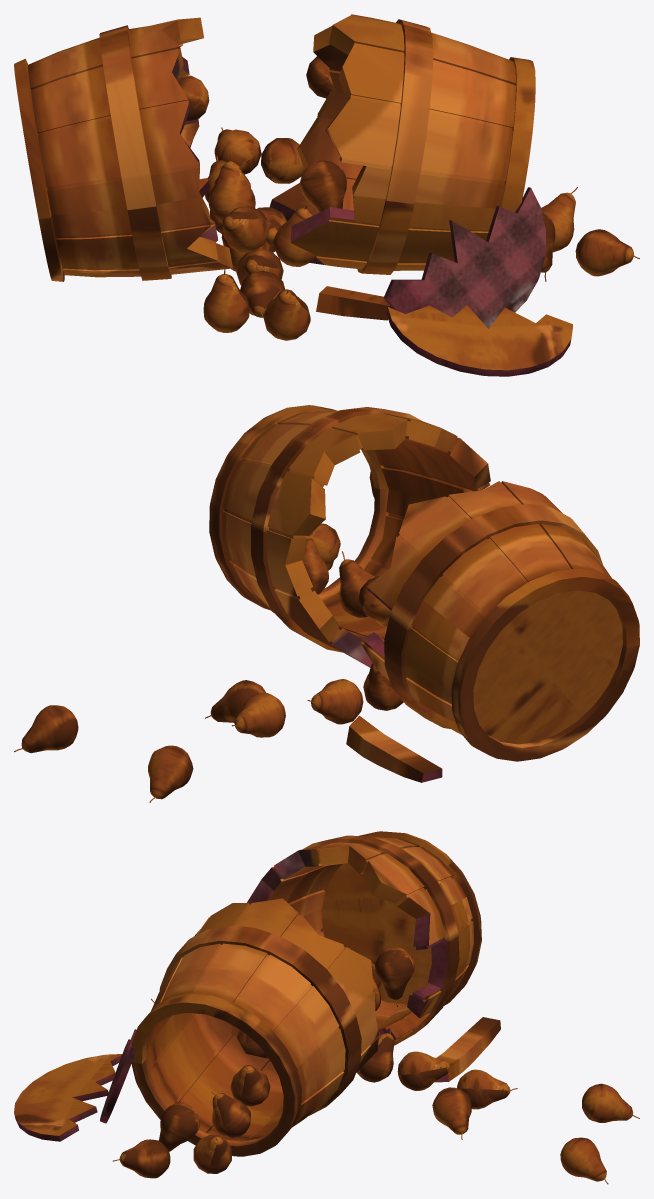
Rendered from barrel of broken fruit_3.fbx.
3 views of the same model, one above another, from view 1: azimuth 30°, elevation 25°; view 2: azimuth 150°, elevation 25°; view 3: azimuth 270°, elevation 25° (orthographic). The views are drawn at different scales.
Parts seen in each view (by area): view 1: Circle.025, Circle.026, Plane.1622, Plane.1620, Plane.1628, Plane.1616, Plane.1637, Plane.1630, Plane.1629, Plane.1623, Plane.1631, Plane.1625 (+6 smaller); view 2: Circle.025, Plane.1618, Plane.1621, Plane.1623, Plane.1632, Plane.1634, Plane.1629, Plane.1636, Plane.1635, Plane.1626, Plane.1628; view 3: Circle.025, Circle.026, Plane.1624, Plane.1621, Plane.1618, Plane.1632, Plane.1620, Plane.1626, Plane.1629, Plane.1635, Plane.1623, Plane.1634 (+2 smaller).
Boxes of the visible parts, <box> form: Circle.025: <box>14,14,535,320</box>; Circle.026: <box>383,187,572,376</box>; Plane.1622: <box>203,269,249,332</box>; Plane.1620: <box>575,229,639,276</box>; Plane.1628: <box>299,160,346,212</box>; Plane.1616: <box>263,289,310,340</box>; Plane.1637: <box>208,153,255,222</box>; Plane.1630: <box>222,206,268,252</box>; Plane.1629: <box>261,138,304,183</box>; Plane.1623: <box>214,127,261,174</box>; Plane.1631: <box>240,270,285,317</box>; Plane.1625: <box>541,187,577,252</box>; Circle.025: <box>209,405,639,782</box>; Plane.1618: <box>14,705,78,753</box>; Plane.1621: <box>148,745,193,802</box>; Plane.1623: <box>231,693,285,737</box>; Plane.1632: <box>307,679,363,724</box>; Plane.1634: <box>339,551,374,617</box>; Plane.1629: <box>205,680,266,722</box>; Plane.1636: <box>363,663,403,710</box>; Plane.1635: <box>302,535,328,594</box>; Plane.1626: <box>307,523,340,570</box>; Plane.1628: <box>358,576,391,626</box>; Circle.025: <box>131,831,500,1156</box>; Circle.026: <box>14,1029,136,1141</box>; Plane.1624: <box>375,947,414,1006</box>; Plane.1621: <box>582,1083,639,1122</box>; Plane.1618: <box>560,1137,608,1184</box>; Plane.1632: <box>397,1051,455,1090</box>; Plane.1620: <box>112,1139,170,1178</box>; Plane.1626: <box>159,1103,199,1151</box>; Plane.1629: <box>432,1087,471,1139</box>; Plane.1635: <box>211,1091,250,1137</box>; Plane.1623: <box>457,1069,517,1109</box>; Plane.1634: <box>230,1065,270,1106</box>.
Bounding box in the file's own units: 77.34 × 37.08 × 102.
